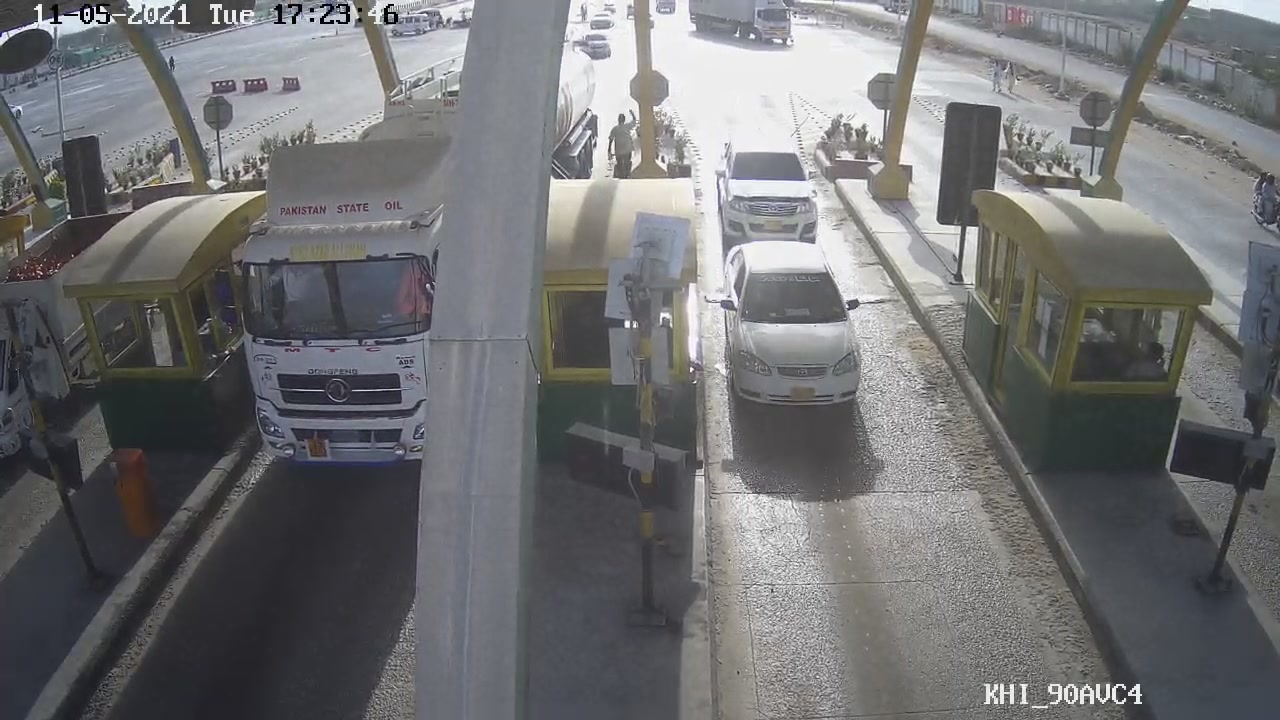F1: (718, 235, 867, 411)
